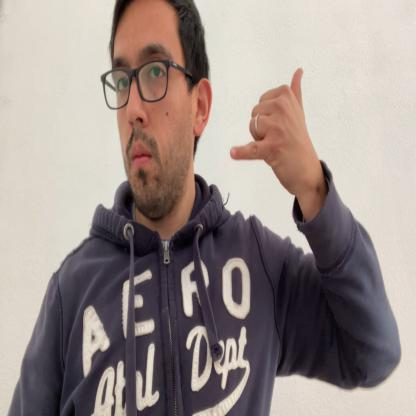Y: (230, 68, 310, 193)
